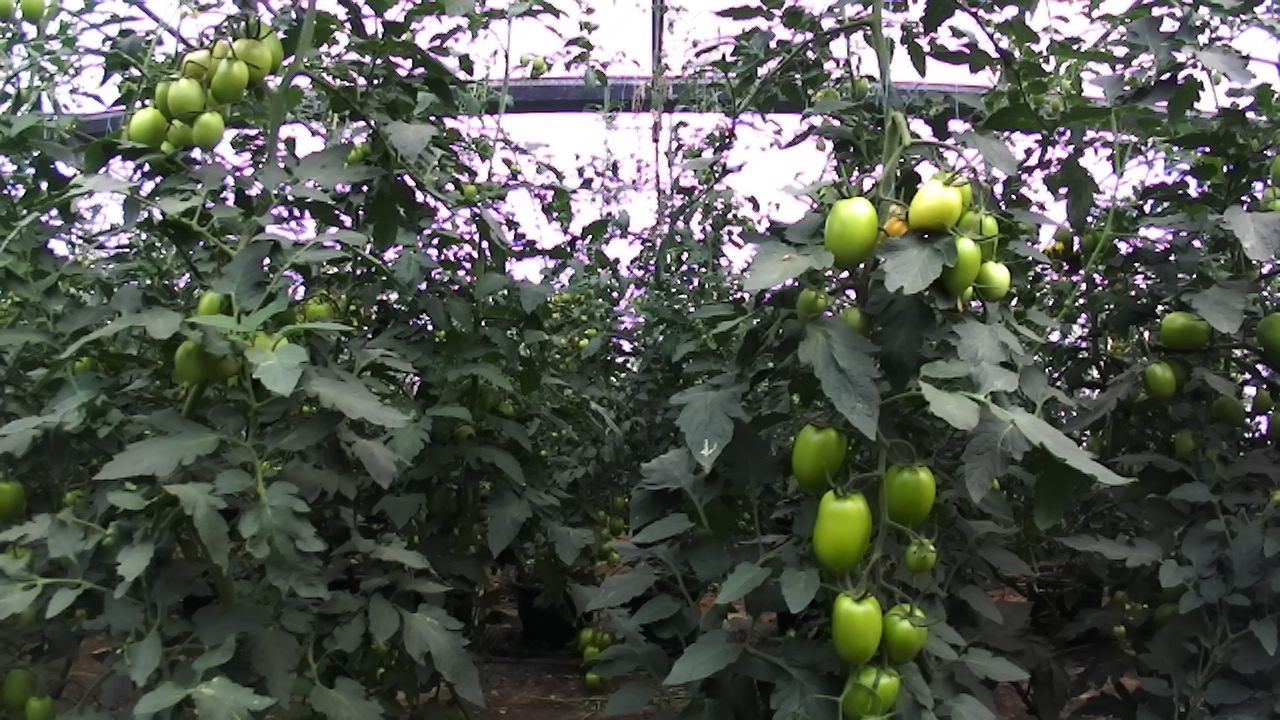tomato: (802, 472, 882, 588), (777, 406, 857, 505), (817, 181, 890, 284), (872, 445, 947, 543), (826, 580, 890, 677), (874, 593, 942, 677), (835, 650, 908, 720), (933, 226, 995, 306), (903, 171, 969, 244), (235, 12, 295, 84), (954, 198, 1009, 274), (164, 330, 222, 394), (1152, 303, 1214, 357), (222, 31, 277, 90), (782, 275, 837, 331), (1203, 383, 1255, 438), (971, 254, 1023, 309), (205, 50, 255, 107), (162, 70, 210, 126), (893, 530, 944, 582), (0, 660, 42, 718), (174, 42, 222, 89), (187, 104, 229, 157), (124, 102, 171, 148), (1141, 356, 1186, 402), (160, 111, 205, 156), (0, 469, 34, 526), (150, 72, 185, 124), (20, 684, 61, 720), (14, 0, 53, 32), (574, 621, 600, 651), (590, 627, 615, 651), (579, 667, 606, 689), (580, 641, 602, 665)
